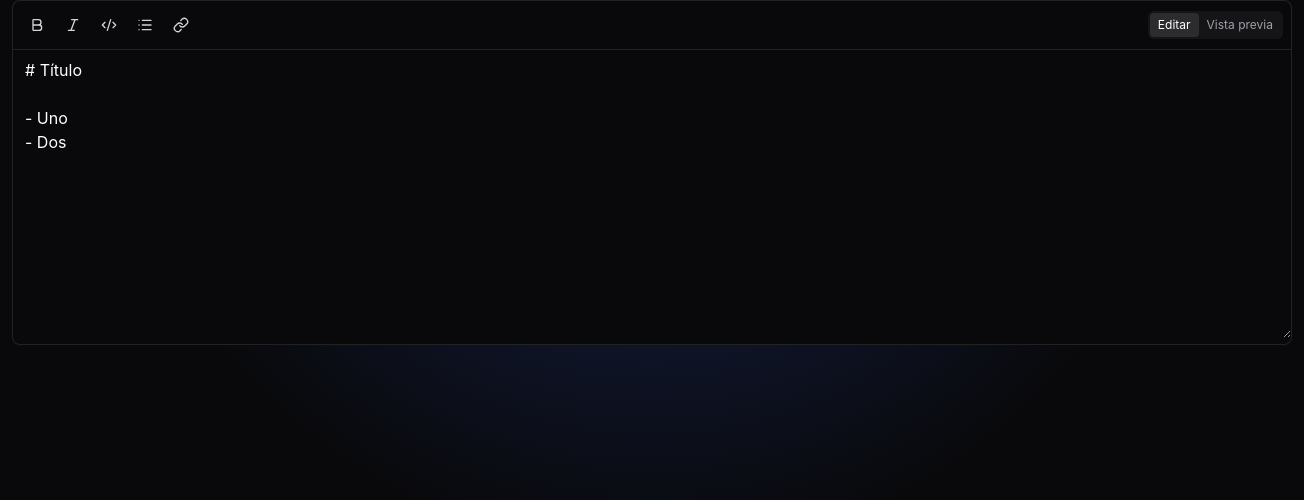
Test case: MarkdownEditor › renderiza encabezados y listas en la vista previa
Click the button "Vista previa" at (1240,25), box [1199, 13, 1281, 37]
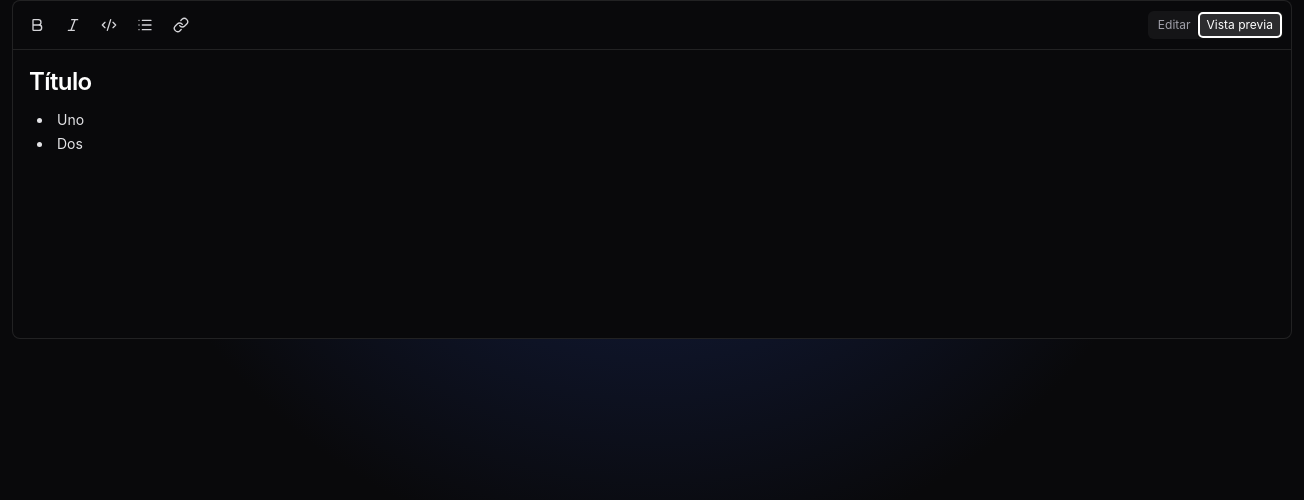
Check: the list item "Uno" is shown, box [57, 111, 84, 128]
Check: the list item "Dos" is shown, box [57, 135, 83, 152]
